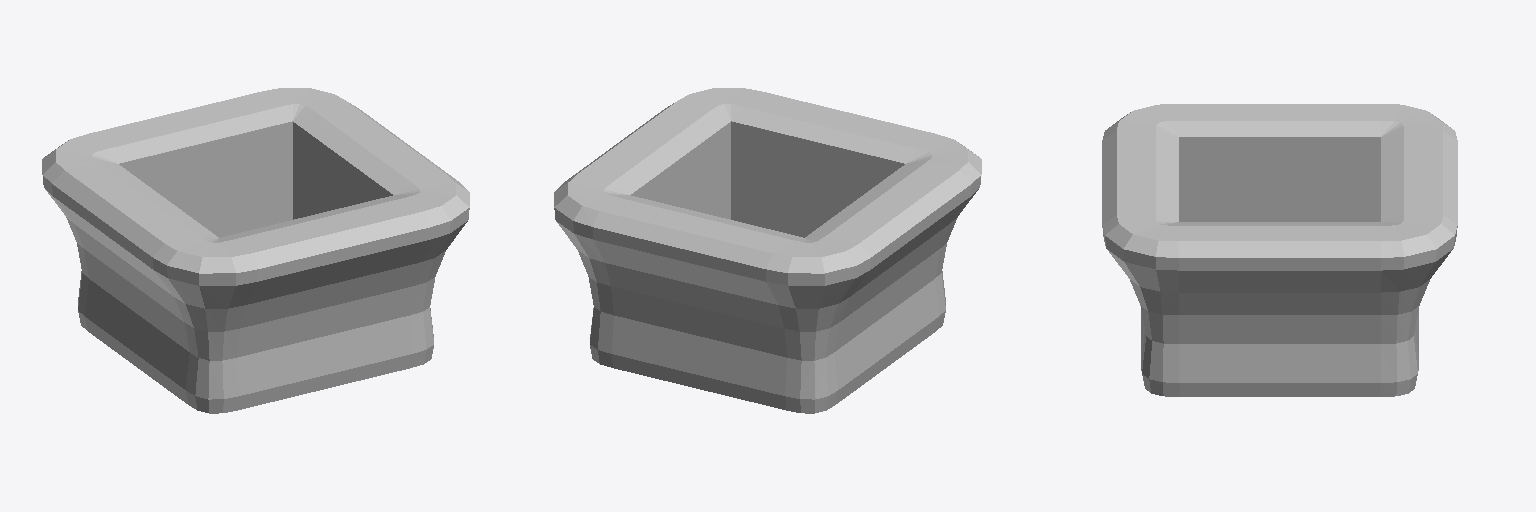
File: OutwardCurvedWall_Upper_4_edges.obj
3 views of the same model, side by side, from view 1: azimuth 30°, elevation 25°; view 2: azimuth 150°, elevation 25°; view 3: azimuth 270°, elevation 25° (orthographic).
Parts seen in each view (by area): view 1: OutwardCurvedWall_Upper_4_edges export_grp; view 2: OutwardCurvedWall_Upper_4_edges export_grp; view 3: OutwardCurvedWall_Upper_4_edges export_grp.
Boxes of the visible parts, x1,y1,x2,y2 form: OutwardCurvedWall_Upper_4_edges export_grp: [42, 88, 469, 413]; OutwardCurvedWall_Upper_4_edges export_grp: [554, 88, 981, 413]; OutwardCurvedWall_Upper_4_edges export_grp: [1102, 104, 1457, 396].
Size of the model in its own units: 6.84 by 3.55 by 6.85.